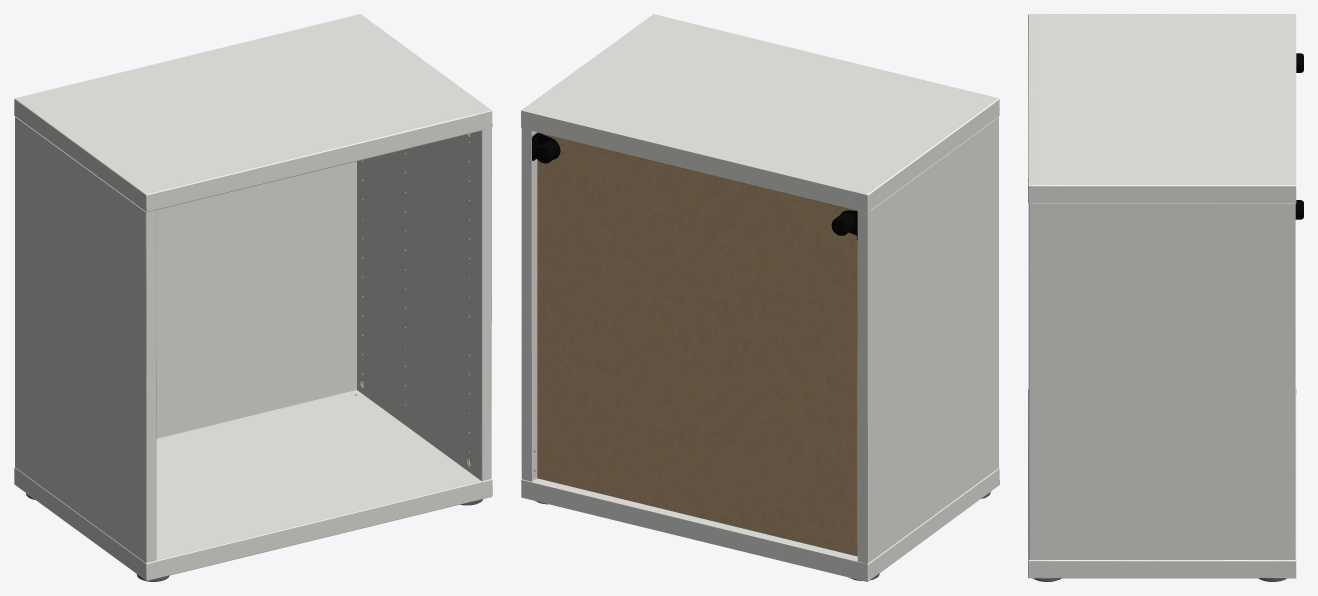
Rendered from besta_obudowa_30245850.glb.
The picture shows the model from 3 angles, left to right: view 1: azimuth 30°, elevation 25°; view 2: azimuth 150°, elevation 25°; view 3: azimuth 270°, elevation 25°; orthographic projection.
Parts seen in each view (by area): view 1: besta_obudowa_30245850; view 2: besta_obudowa_30245850; view 3: besta_obudowa_30245850.
Part boxes in pixels (x1,y1,x2,y2): besta_obudowa_30245850: [14, 14, 492, 581]; besta_obudowa_30245850: [521, 14, 999, 581]; besta_obudowa_30245850: [1028, 14, 1303, 581].
Bounding box in the file's own units: 0.6 × 0.6481 × 0.4071.
Materials: 1 (1 with a texture image).
